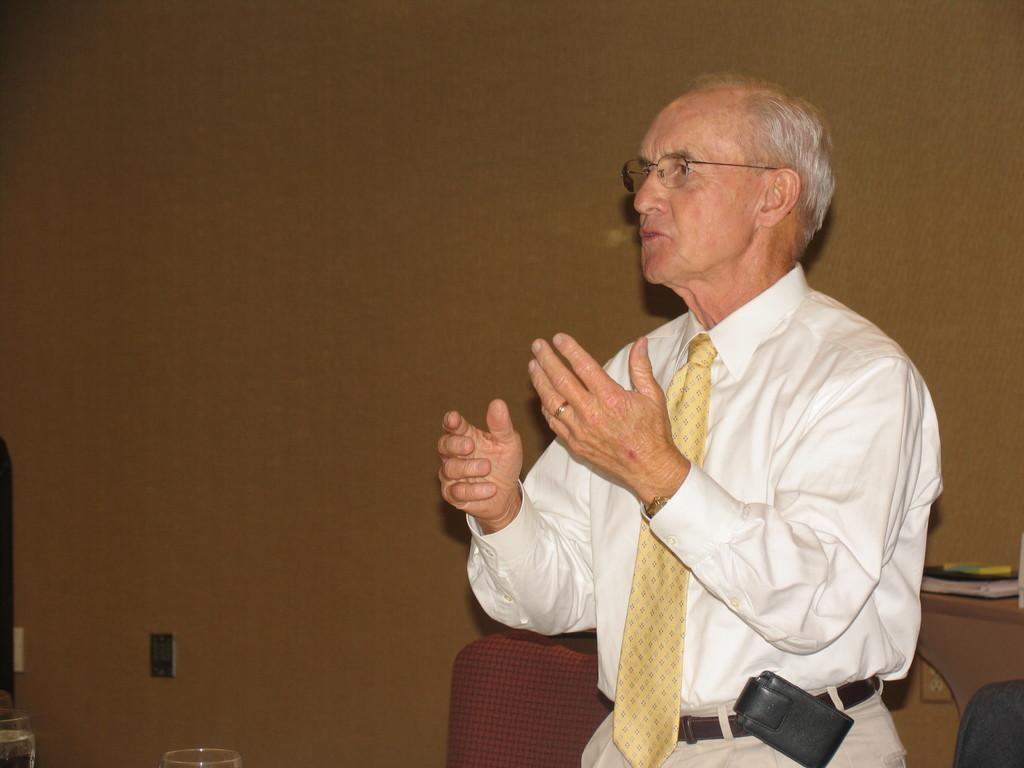no_helmet: (568, 128, 868, 348)
none: (459, 322, 944, 628)
